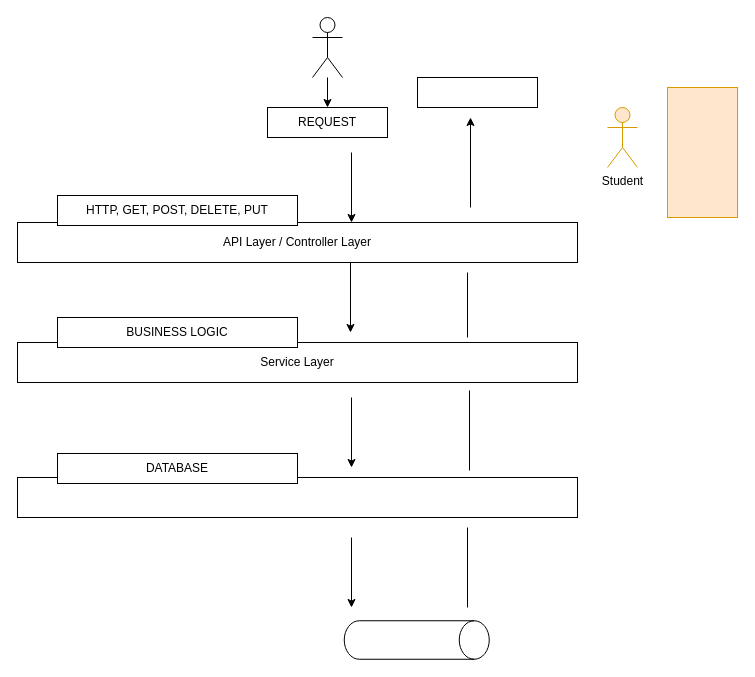
This 755x677 diagram has some shape labels left out. The shapes that lost their labels are listed below. From the top down, each one's centre as x and y in pixels, then its label:
At (327,47): "Actor".
At (477,92): "RESPONSE".
At (702,152): "Attributes - ID - Name -Gender -Address -Age -Dob -Email".
At (297,497): "Data Access Layer (dao)".
